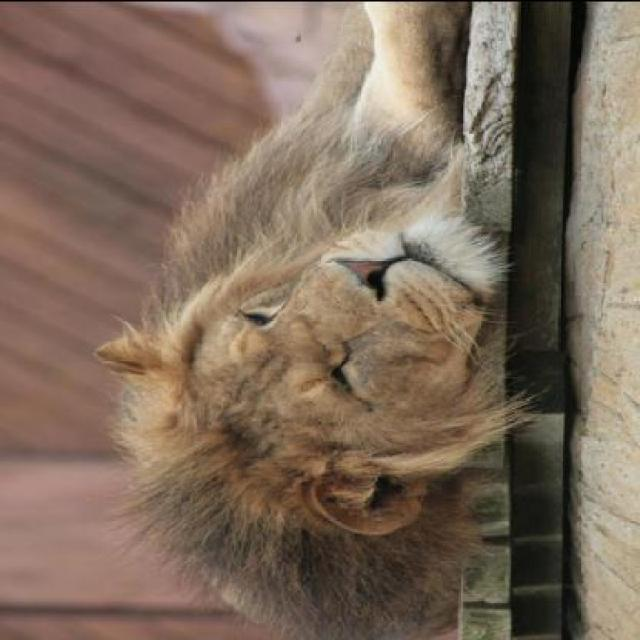Lion: (88, 6, 537, 639)
